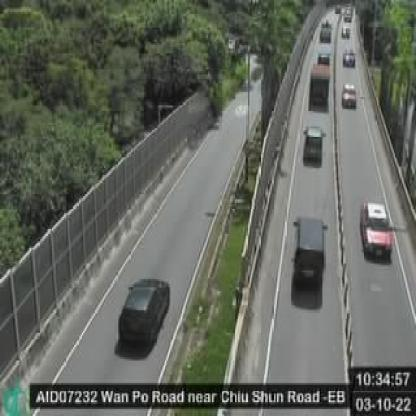Car: (117, 277, 170, 345), (291, 212, 325, 284), (360, 201, 394, 262), (300, 125, 324, 161), (342, 82, 355, 108), (342, 47, 352, 66)
Truck: (310, 64, 330, 106), (318, 19, 332, 40)
